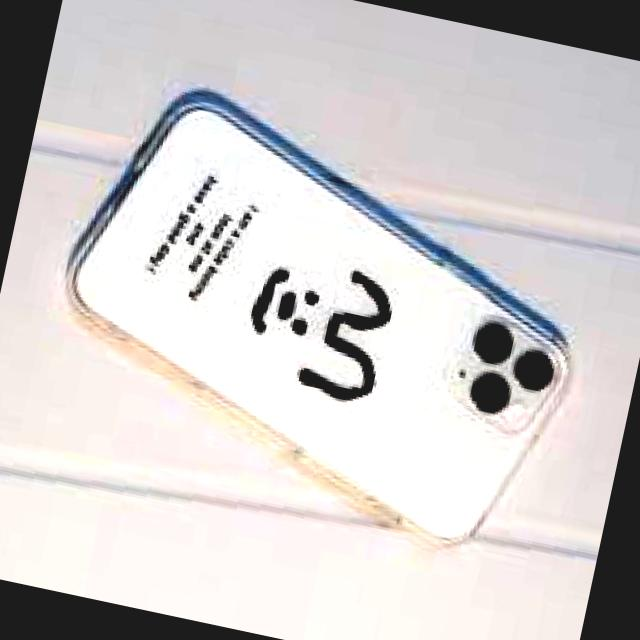lens_back: (507, 344, 559, 396), (466, 318, 518, 370), (464, 366, 516, 418)
phone: (24, 72, 608, 556)
